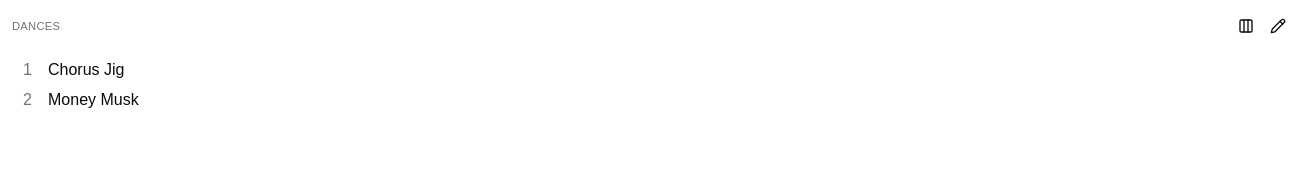
it: ProgramDanceLineup › edit mode › removes a dance from the list immediately, bridging the gap before the dances prop catches up
Click the button named "Edit dances" at [1278, 26], box [1264,12,1292,40]
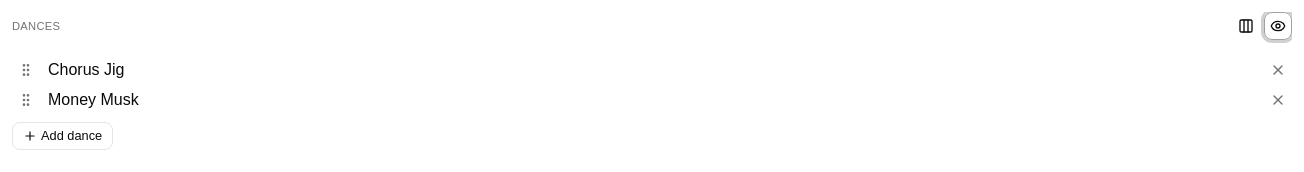
Click the button named "Remove dance" in the row of "Chorus Jig" at [1278, 70], box [1264,56,1292,84]
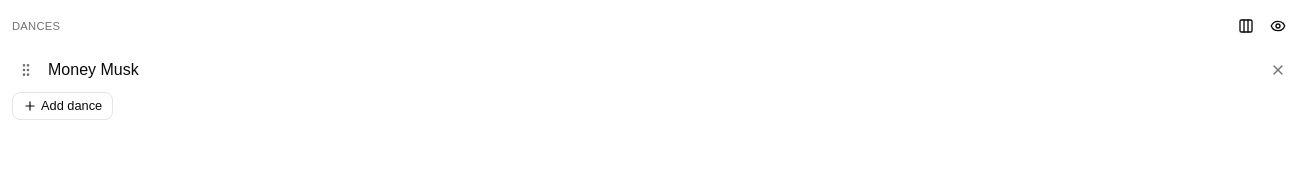
Check: the link "Money Musk" is shown, box [48,58,139,82]
Check: the number of buttons named "Remove dance" is 1, box [1264,56,1292,84]
Check: the link "Chorus Jig" is gone
